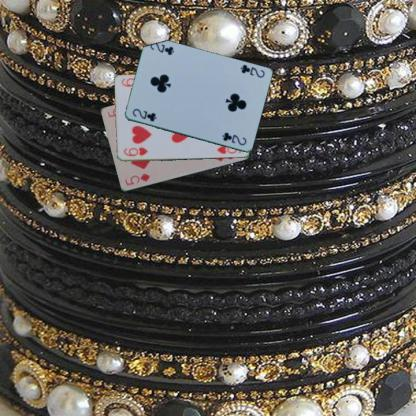2c: (129, 106, 158, 123), (237, 62, 266, 79)
5d: (122, 171, 152, 187)
6h: (121, 145, 149, 157)
